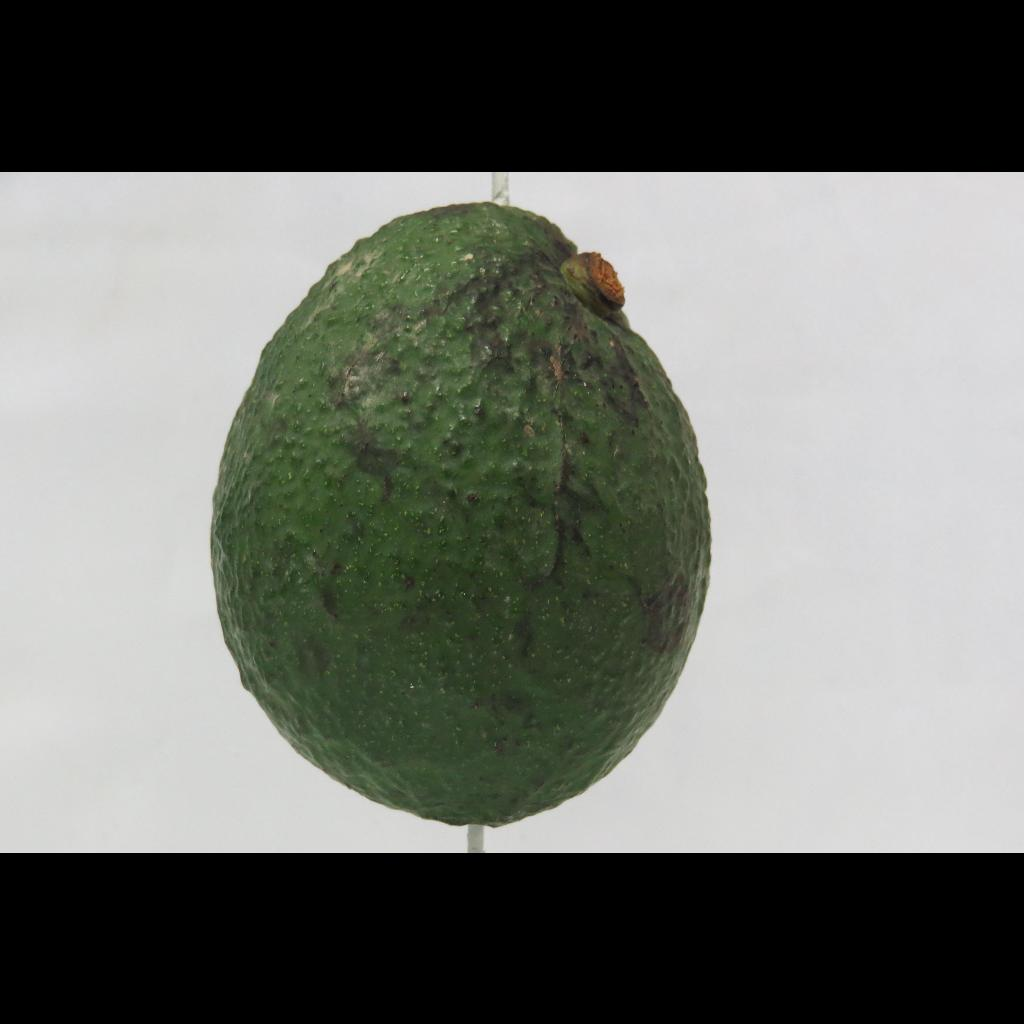fruto_sano: (168, 183, 730, 848)
